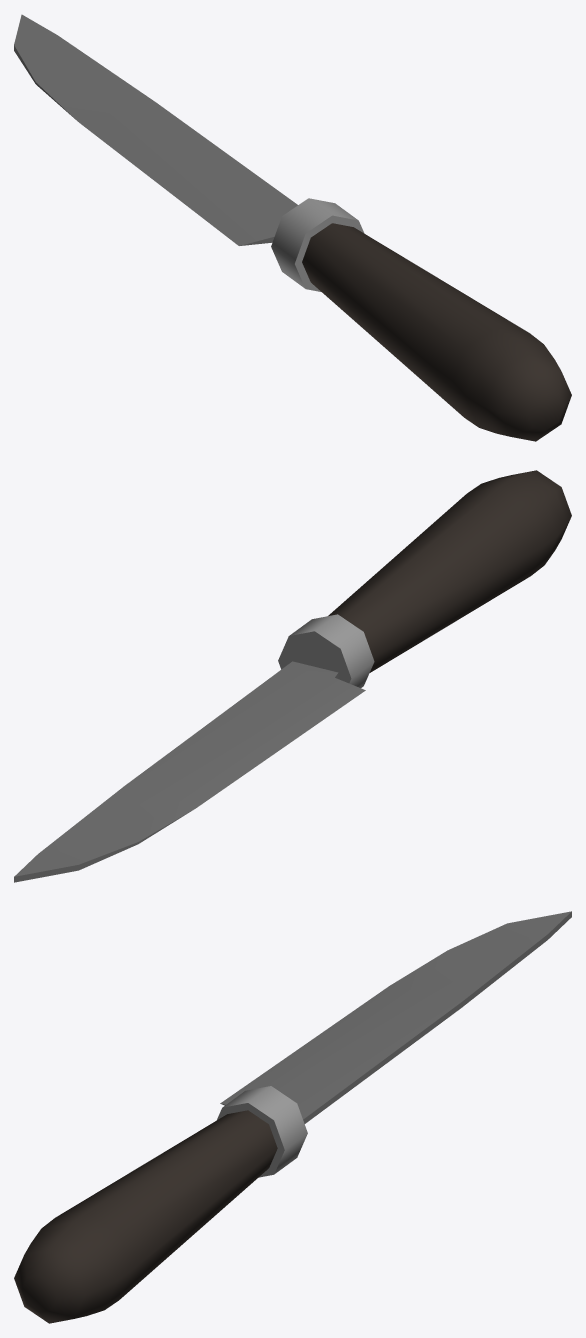
File: HerbalistKnife_01.fbx
The picture shows the model from 3 angles, top to bottom: view 1: azimuth 30°, elevation 25°; view 2: azimuth 150°, elevation 25°; view 3: azimuth 330°, elevation 25°; orthographic projection. The views are drawn at different scales.
Parts seen in each view (by area): view 1: HerbalistKnife_01; view 2: HerbalistKnife_01; view 3: HerbalistKnife_01.
Boxes of the visible parts, box(x1,y1,x2,y2) form: HerbalistKnife_01: box(14, 14, 571, 441); HerbalistKnife_01: box(14, 470, 571, 882); HerbalistKnife_01: box(14, 911, 571, 1323).
Size of the model in its own units: 0.0425 by 0.0367 by 0.3663.
